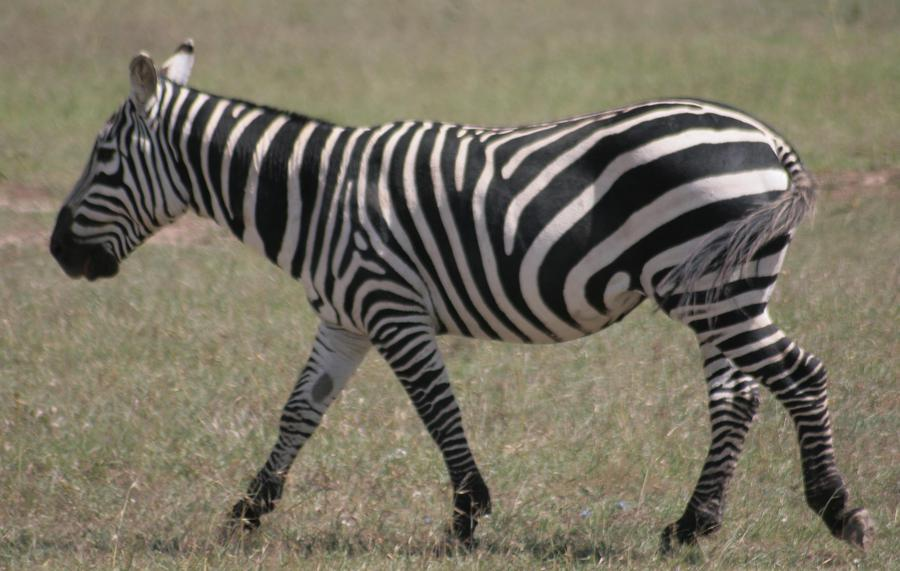zebra_plains: (322, 111, 764, 330)
